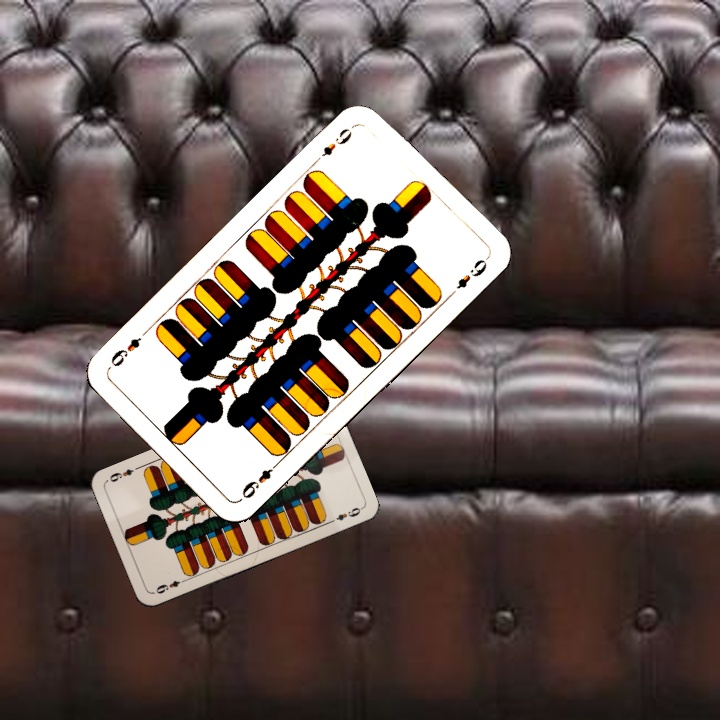E9: (311, 120, 359, 165), (237, 457, 283, 501), (150, 575, 189, 596)
